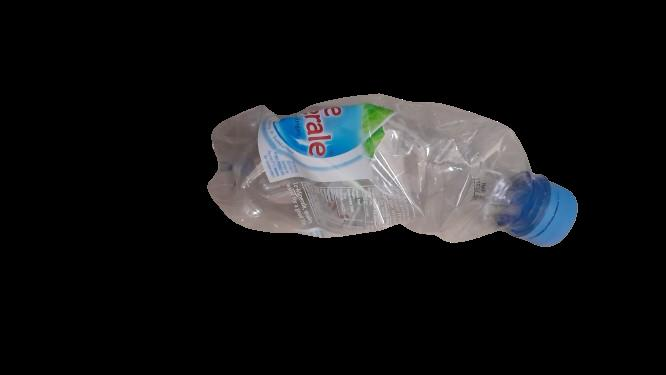Plastik: (212, 86, 581, 256)
